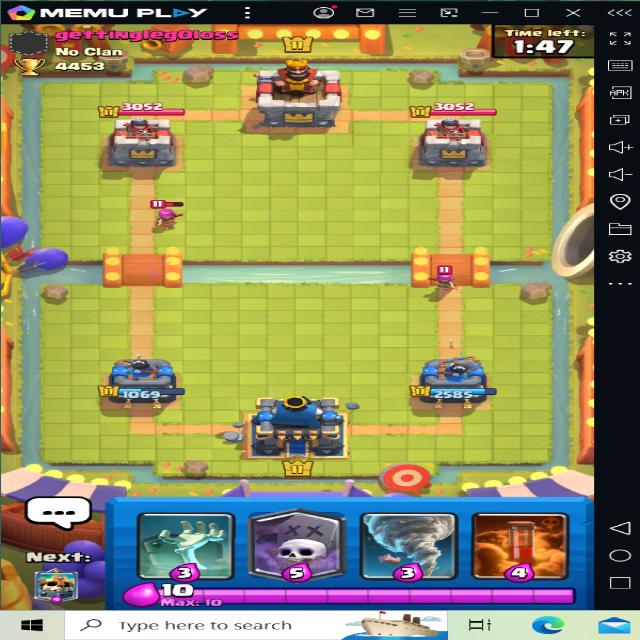archer: (139, 197, 194, 236), (424, 264, 465, 292)
